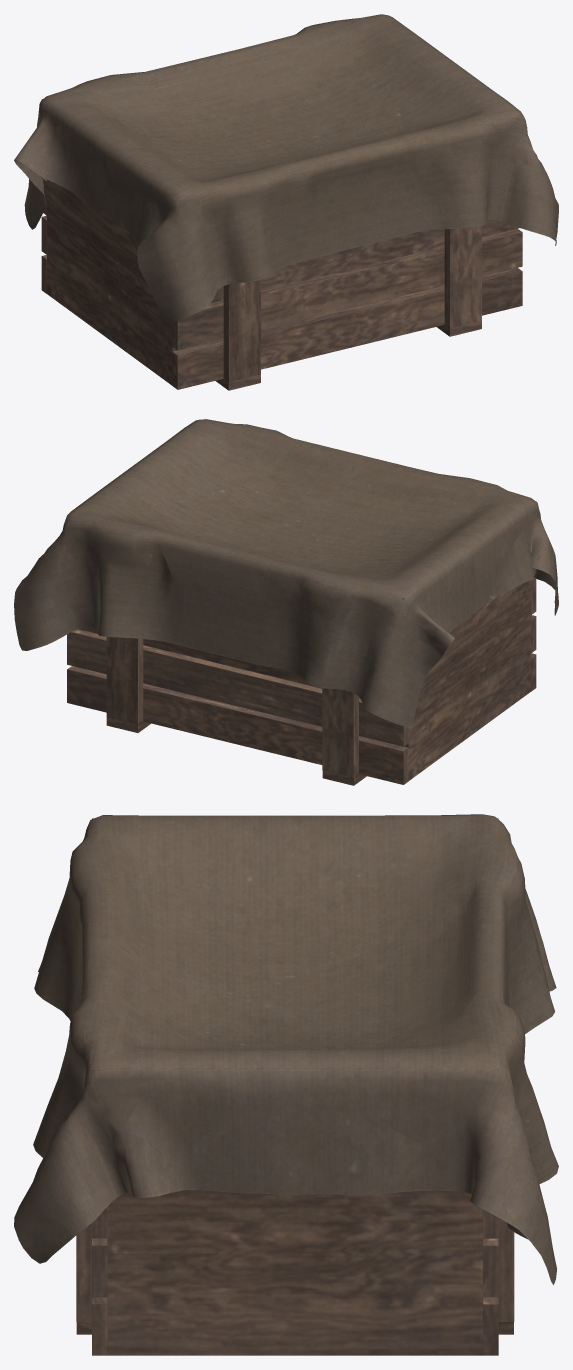
Rendered from simple_short_crate_1.0.glb.
3 renders of one model, top to bottom at view 1: azimuth 30°, elevation 25°; view 2: azimuth 150°, elevation 25°; view 3: azimuth 270°, elevation 25°, orthographic. The views are drawn at different scales.
Parts seen in each view (by area): view 1: Object_2; view 2: Object_2; view 3: Object_2.
Part boxes in pixels (left/top/right/bottom): Object_2: left=14, top=14, right=558, bottom=390; Object_2: left=14, top=419, right=558, bottom=785; Object_2: left=14, top=814, right=558, bottom=1355.
Size of the model in its own units: 3.97 by 1.8 by 2.9.
Materials: 1 (1 with a texture image).
